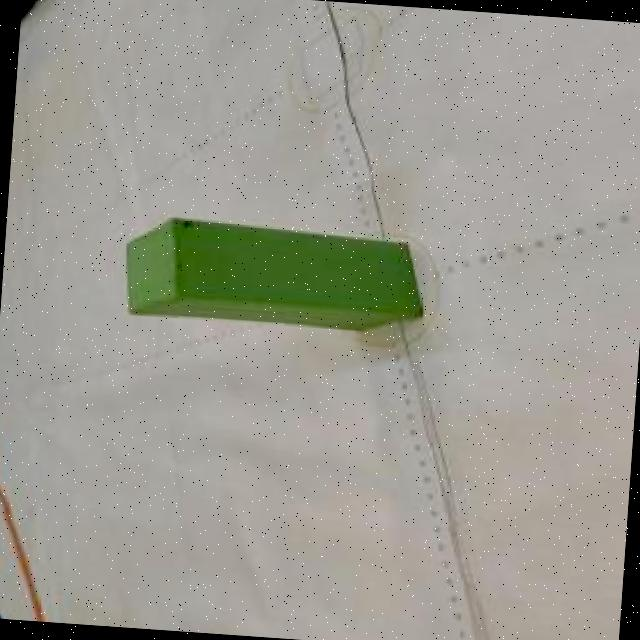greenbox: (118, 213, 428, 338)
